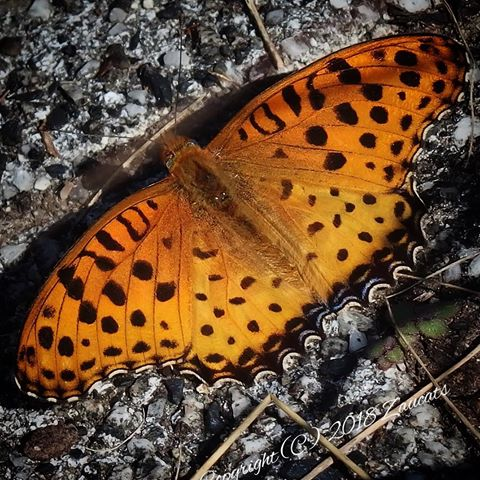Argyreus hyperbius: (9, 13, 473, 403)
butterfly: (11, 15, 475, 405)
